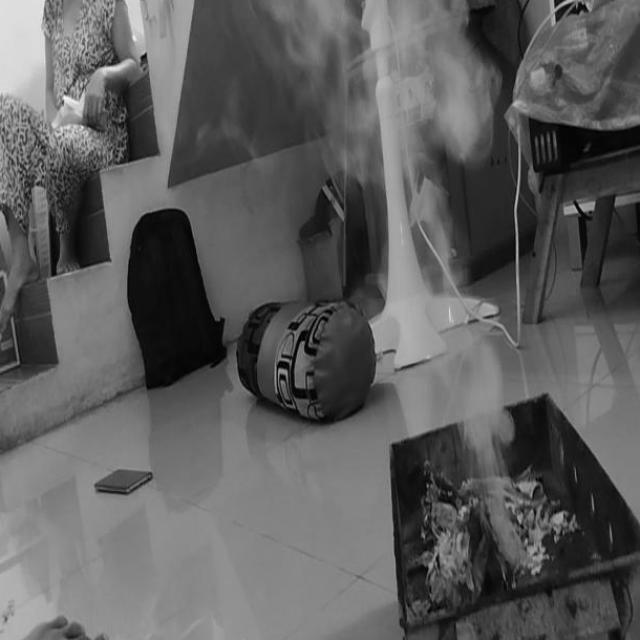fire: (286, 0, 504, 184), (440, 304, 517, 524)
